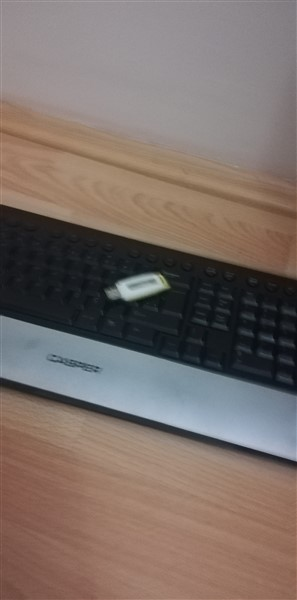flash disk: (101, 266, 176, 313)
klavye: (3, 197, 297, 471)
